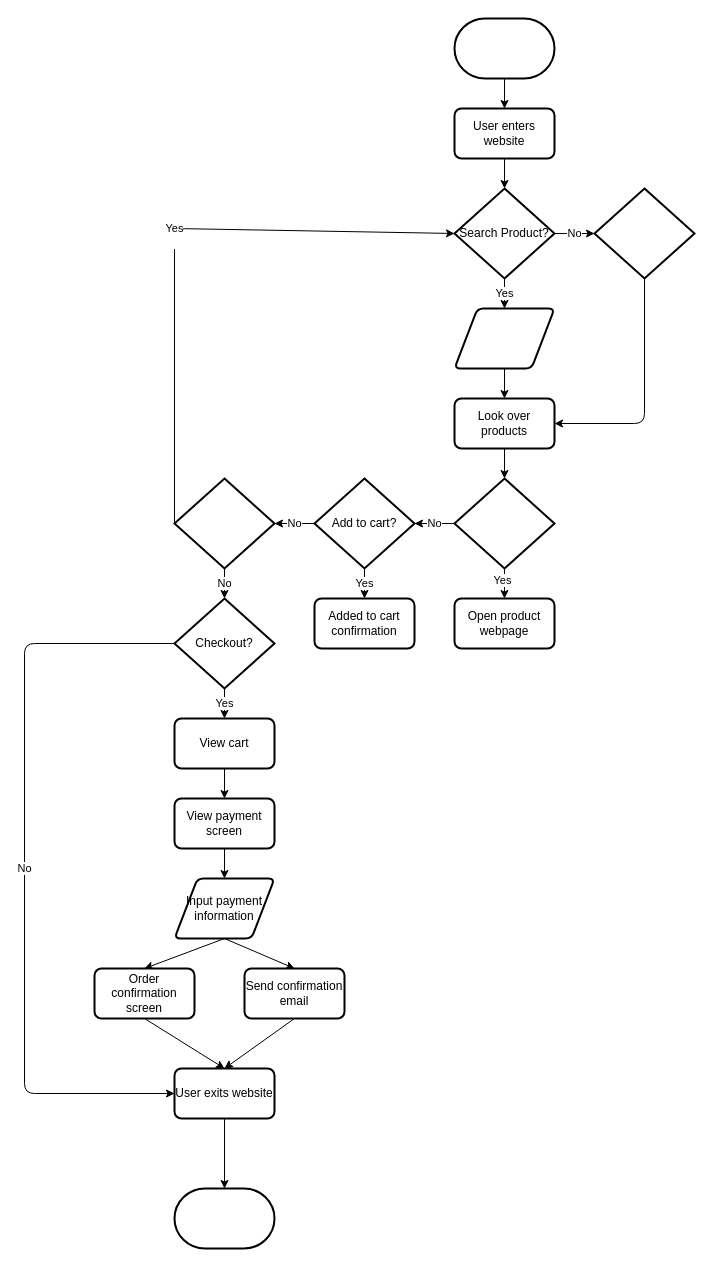
This 713x1266 diagram has some shape labels left out. The shapes that lost their labels are listed below. From the top down, each one's centre as x and y in pixels, then its label:
At [504,48]: "Start".
At [644,233]: "Explore Products?".
At [504,338]: "User inputs search".
At [224,523]: "Continue shopping?".
At [504,523]: "View specific product?".
At [224,1218]: "End".
